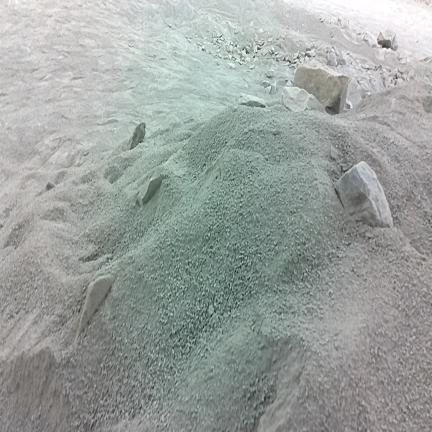Rock: (335, 161, 393, 228), (293, 59, 348, 113), (77, 275, 113, 337), (282, 87, 324, 112), (137, 175, 166, 206), (377, 30, 398, 50), (131, 123, 145, 149), (361, 32, 377, 47), (328, 53, 337, 67), (46, 182, 55, 190), (270, 82, 276, 94), (345, 100, 352, 109), (227, 63, 235, 69), (262, 80, 268, 87), (265, 86, 270, 93), (245, 46, 250, 53), (254, 46, 257, 52), (250, 65, 254, 69), (253, 42, 255, 50), (250, 21, 253, 26)
